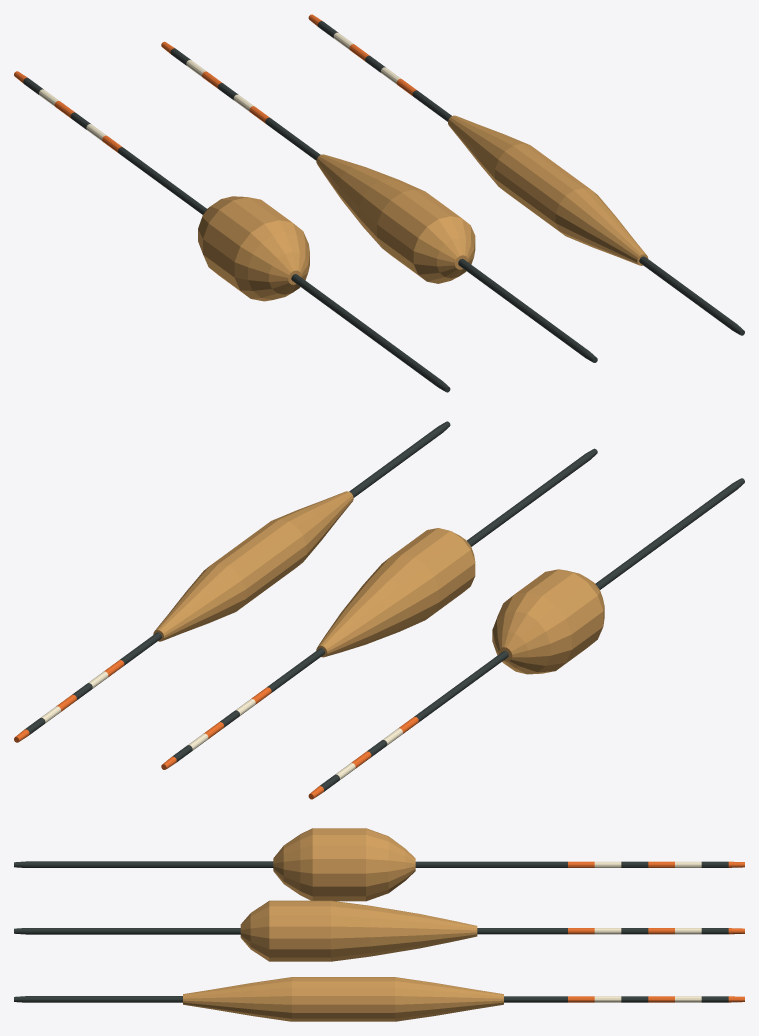
3 renders of one model, top to bottom at view 1: azimuth 30°, elevation 25°; view 2: azimuth 150°, elevation 25°; view 3: azimuth 270°, elevation 25°, orthographic. The views are drawn at different scales.
Parts seen in each view (by area): view 1: Teardrop_Body, Spindle_Body, Egg_Body, Egg_StripedTail, Egg_LowerStem, Teardrop_StripedTail, Teardrop_LowerStem, Spindle_StripedTail, Spindle_LowerStem; view 2: Teardrop_Body, Spindle_Body, Egg_Body, Egg_StripedTail, Teardrop_StripedTail, Egg_LowerStem, Spindle_StripedTail, Teardrop_LowerStem, Spindle_LowerStem; view 3: Spindle_Body, Teardrop_Body, Egg_Body, Egg_StripedTail, Teardrop_StripedTail, Egg_LowerStem, Spindle_StripedTail, Teardrop_LowerStem, Spindle_LowerStem.
Part boxes in pixels (x1=…): Teardrop_Body: x1=316, y1=154, x2=475, y2=283; Spindle_Body: x1=448, y1=115, x2=648, y2=265; Egg_Body: x1=198, y1=196, x2=309, y2=301; Egg_StripedTail: x1=14, y1=71, x2=206, y2=214; Egg_LowerStem: x1=291, y1=274, x2=450, y2=392; Teardrop_StripedTail: x1=161, y1=41, x2=320, y2=160; Teardrop_LowerStem: x1=458, y1=259, x2=597, y2=362; Spindle_StripedTail: x1=308, y1=14, x2=451, y2=121; Spindle_LowerStem: x1=639, y1=256, x2=744, y2=335; Teardrop_Body: x1=316, y1=528, x2=475, y2=657; Spindle_Body: x1=153, y1=491, x2=353, y2=641; Egg_Body: x1=492, y1=569, x2=604, y2=674; Egg_StripedTail: x1=308, y1=651, x2=508, y2=799; Teardrop_StripedTail: x1=161, y1=648, x2=324, y2=769; Egg_LowerStem: x1=595, y1=478, x2=744, y2=589; Spindle_StripedTail: x1=14, y1=632, x2=161, y2=742; Teardrop_LowerStem: x1=467, y1=448, x2=597, y2=546; Spindle_LowerStem: x1=349, y1=421, x2=450, y2=497; Spindle_Body: x1=183, y1=977, x2=503, y2=1021; Teardrop_Body: x1=240, y1=900, x2=477, y2=961; Egg_Body: x1=273, y1=828, x2=415, y2=901; Egg_StripedTail: x1=415, y1=861, x2=744, y2=867; Teardrop_StripedTail: x1=477, y1=928, x2=744, y2=934; Egg_LowerStem: x1=14, y1=861, x2=273, y2=867; Spindle_StripedTail: x1=504, y1=996, x2=744, y2=1002; Teardrop_LowerStem: x1=14, y1=928, x2=240, y2=934; Spindle_LowerStem: x1=14, y1=996, x2=182, y2=1002.
Size of the model in its own units: 0.1684 by 0.0353 by 0.355.
